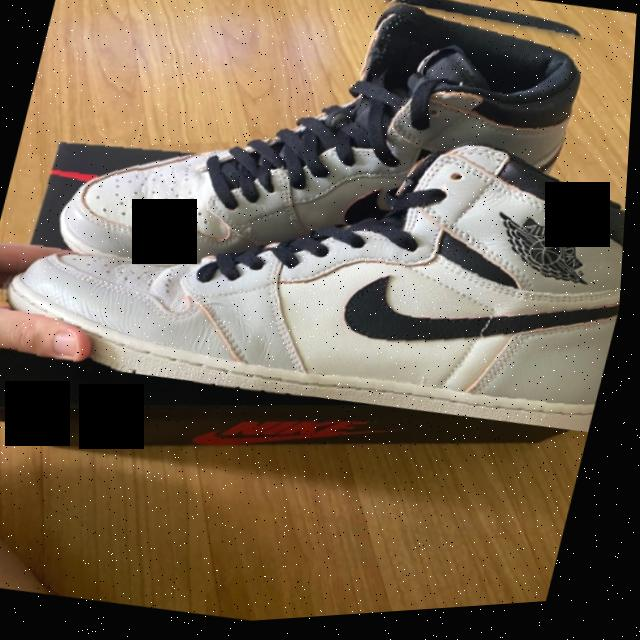shoe: (0, 0, 640, 473)
